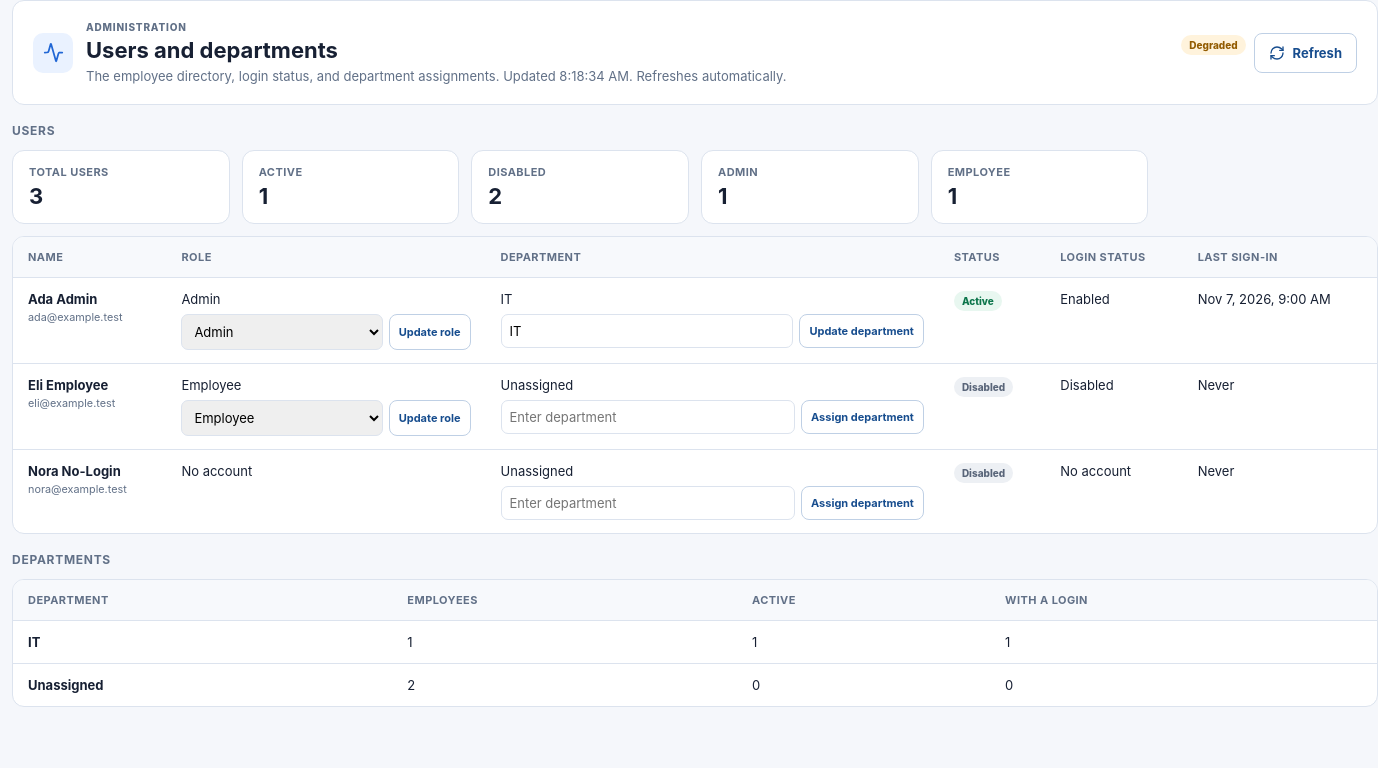
Test: AdminDashboardPage data › lets an administrator change an existing account role to HR / Operations
Step 1. Select "HR / Operations" in the dropdown named "Role for Eli Employee" → [282, 418], box [181,400,383,436]
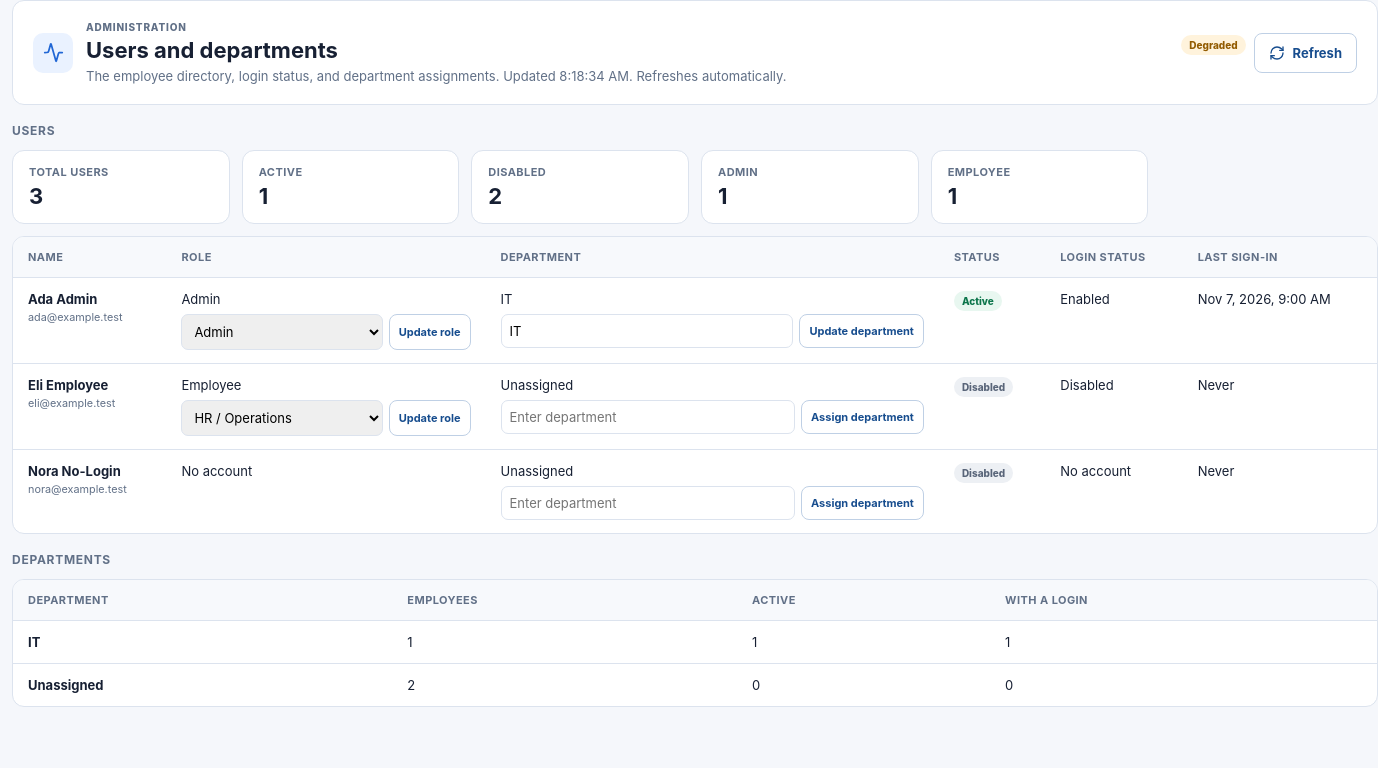
Step 2. Click the button "Update role" in the row of "eli@example.test" → [430, 418], box [389,400,471,436]
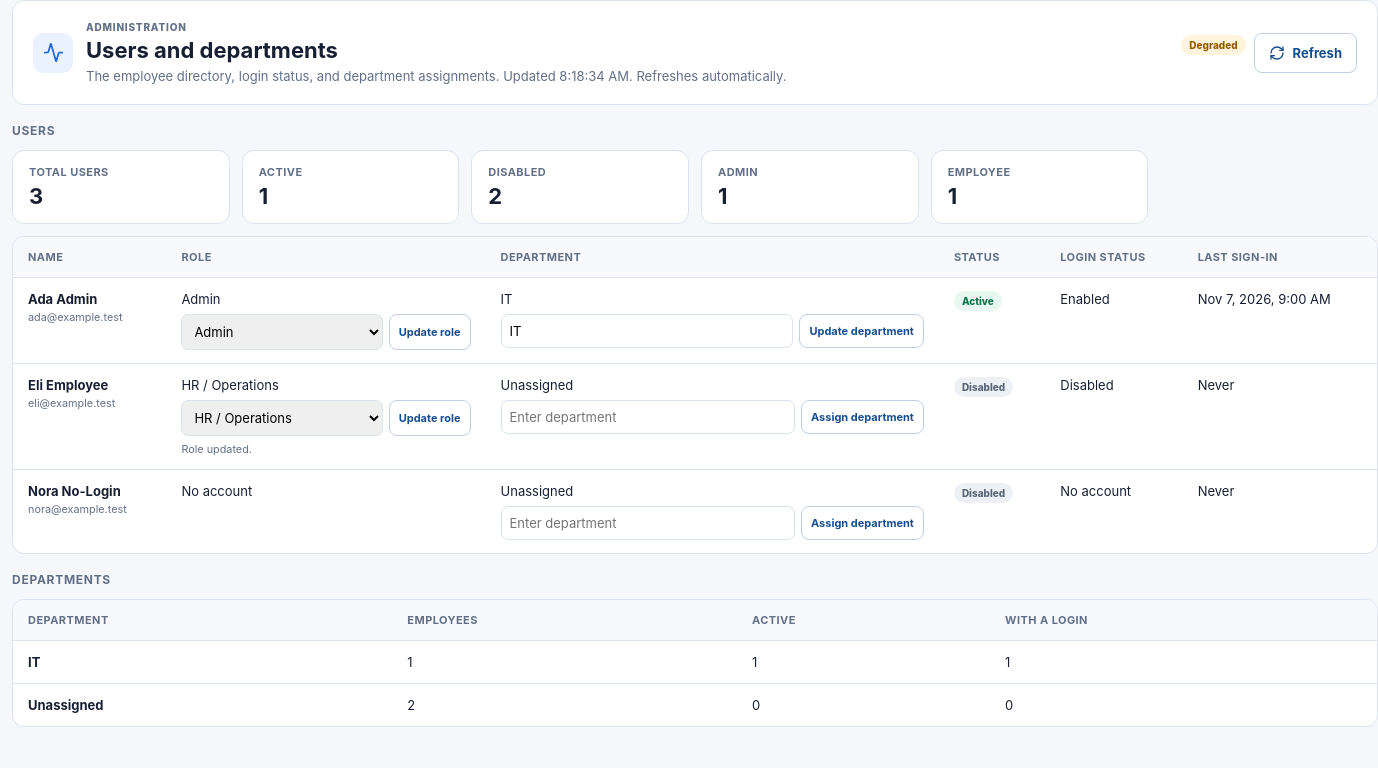
Check: the text "Role updated." is shown, box [181,443,252,456]
